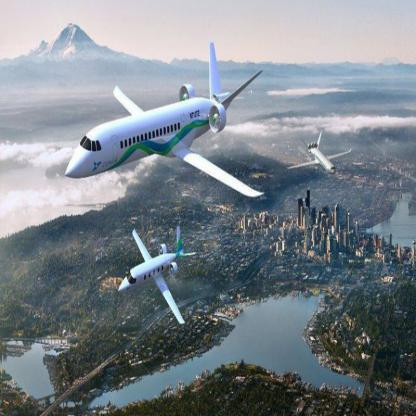CIV_Plane: (60, 35, 268, 219), (114, 220, 198, 330), (283, 126, 354, 176)
